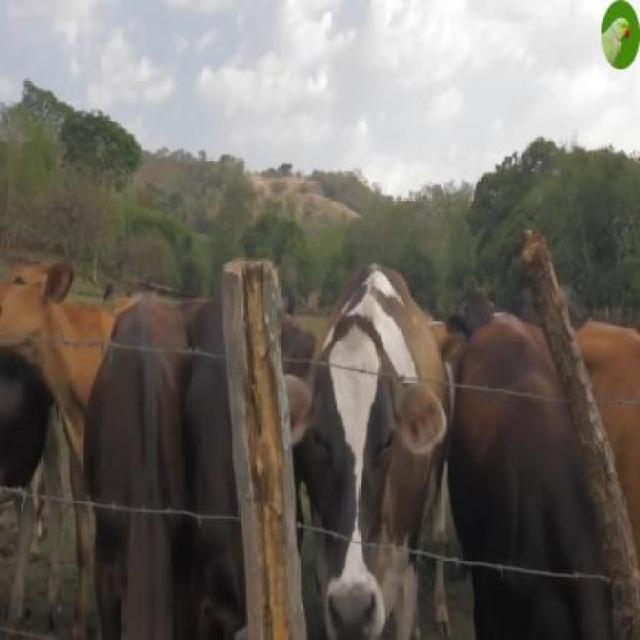Cow: (291, 263, 451, 639)
